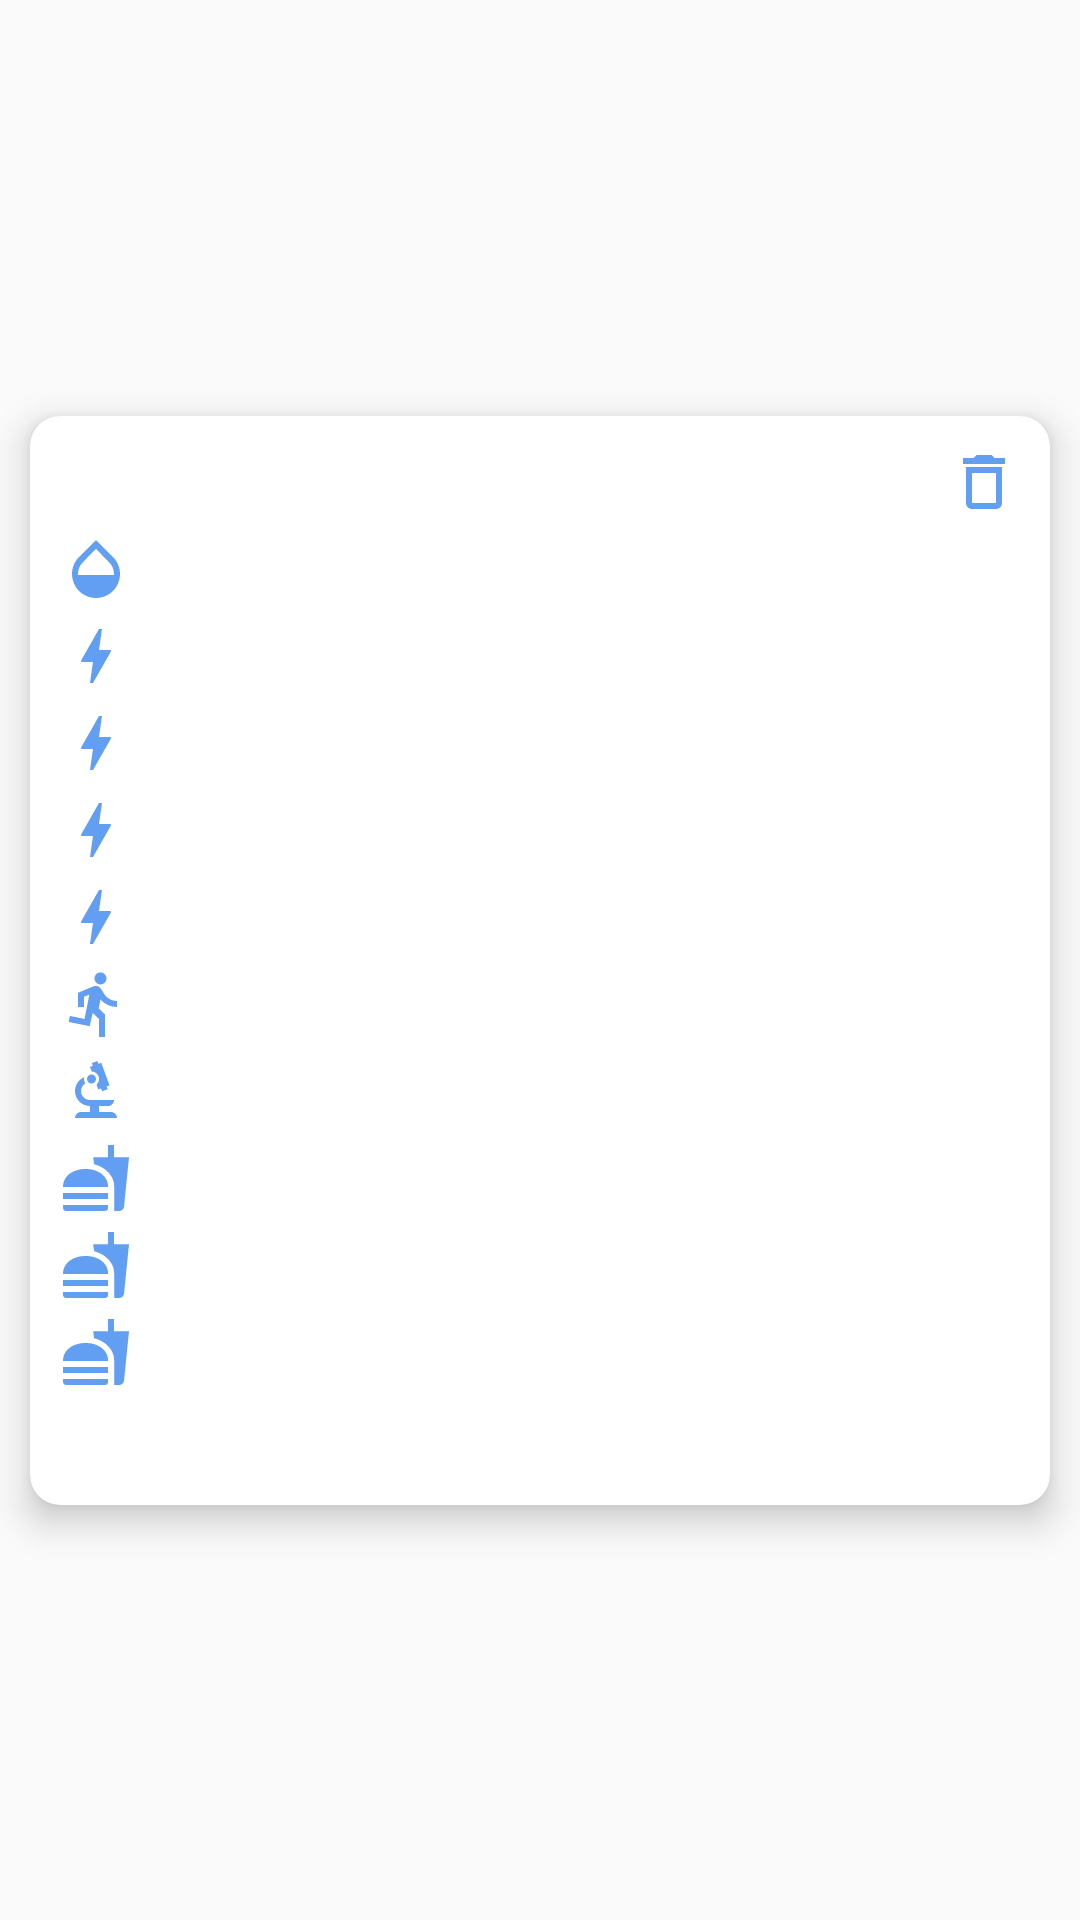

Point at icon controls on the screen. Image size 1080px x 1920px, points as point (x, y).
delete measurement: point (984, 482)
